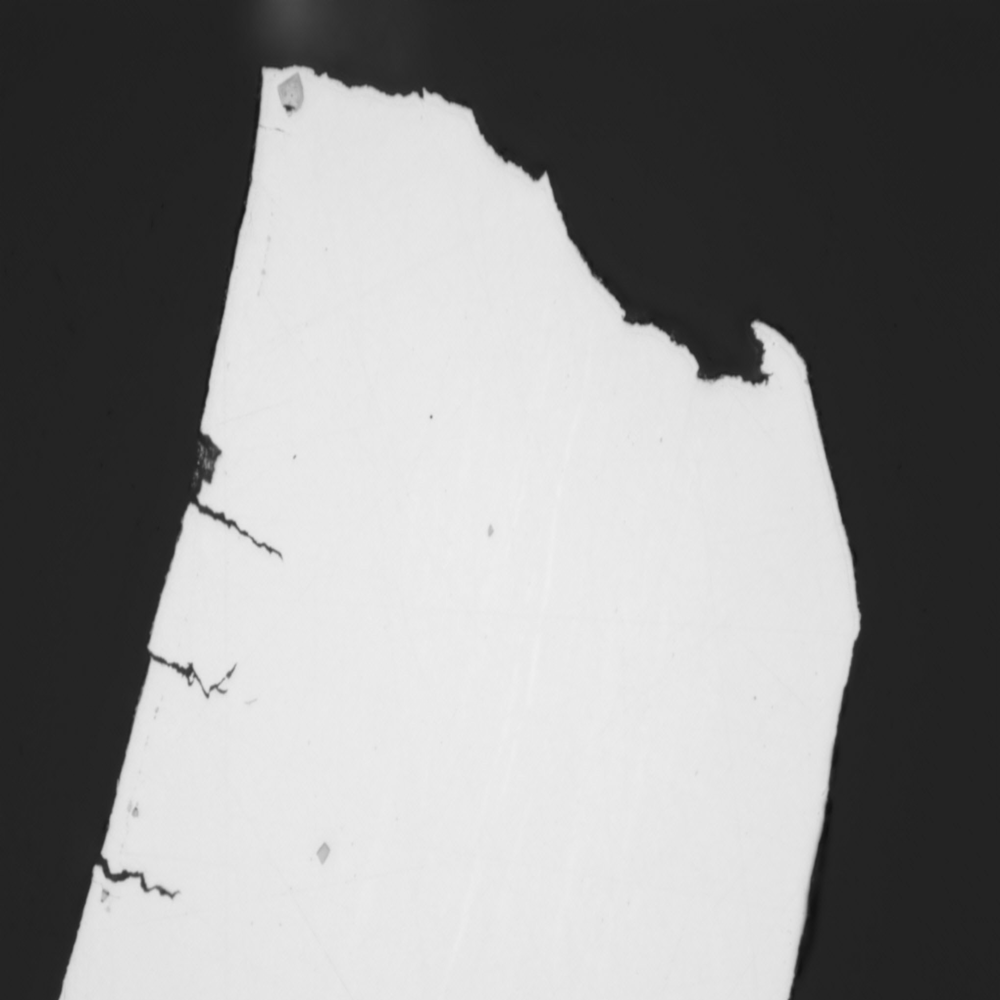crack: (185, 420, 278, 597), (141, 616, 240, 732), (80, 832, 180, 931)
